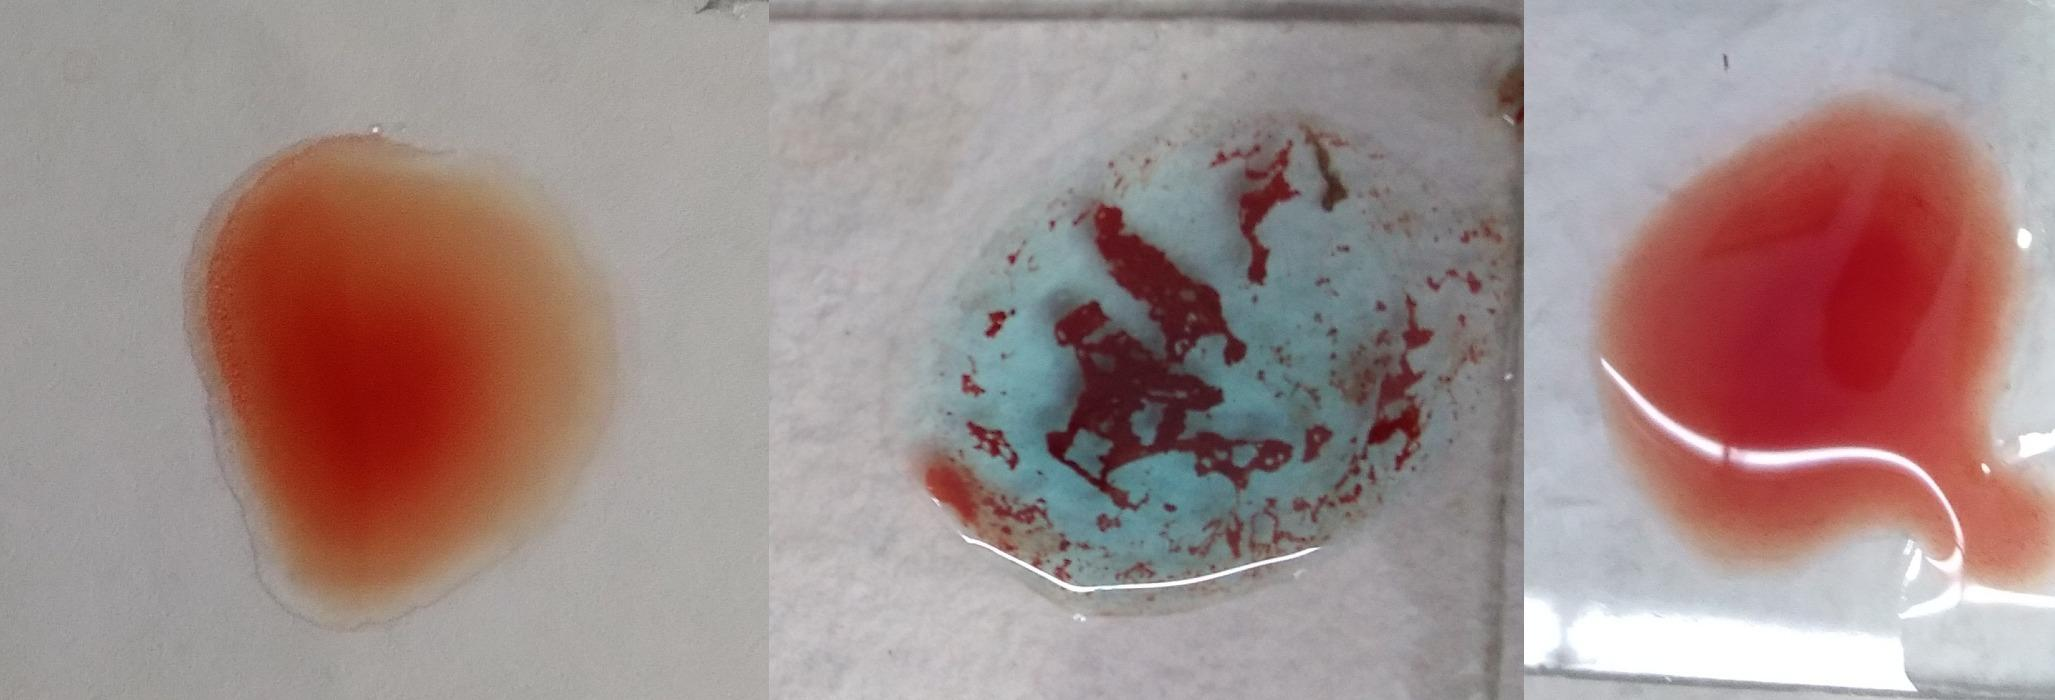A: (896, 83, 1485, 619)
